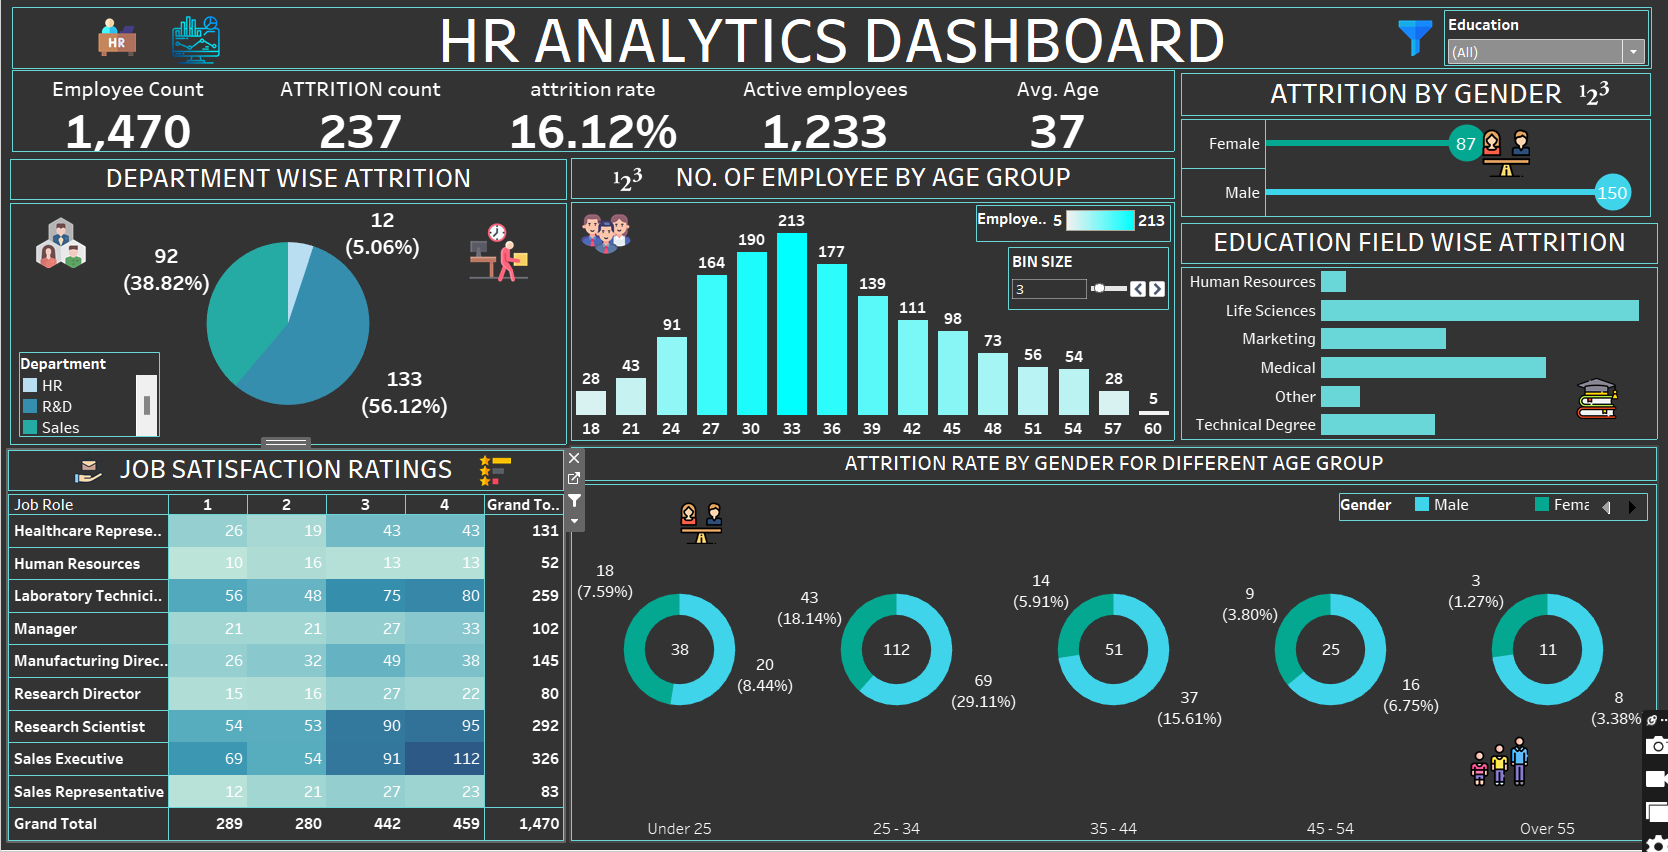

This screenshot's page, from the dashboard's own definition file:
{"tool":"tableau","page":{"name":"HR ANALYTICS DASHBOARD","canvas":[1000,1000],"units":"permille","ordinal":0},"visuals":[{"type":"title","box":[6.6,9.4,980.9,72.9]},{"type":"filter","title":"DEPARTMENT WISE ATTRITION","param":"[federated.1h7xm9t1guxv7b1a39wex0k5pwq9].[none:Education:nk]","box":[863,12.9,122.6,65.8]},{"type":"image","param":"Image/monitor.png","box":[101.7,18.8,47.2,57.6]},{"type":"image","param":"Image/hr.png","box":[58,22.3,37.7,44.6]},{"type":"image","param":"Image/filter.png","box":[834.9,24.7,26.9,42.3]},{"type":"worksheet","title":"KPI","mark":"Automatic","box":[6.6,83.4,695.6,96.4]},{"type":"worksheet","title":"attrition by gender","mark":"Automatic","rows":["Gender"],"cols":["Calculation_1486750868003876864","Calculation_1486750868003876864"],"box":[705.7,87,281.1,169.2]},{"type":"image","param":"Image/5M3bAt-LogoMakr.png","box":[943.2,94,27.5,31.7]},{"type":"image","param":"Image/equality.png","box":[885.8,152.8,31.7,56.4]},{"type":"worksheet","title":"NO. OF EMPLOYEE BY AGE GROUP","mark":"Automatic","rows":["Employee Count"],"cols":["Age (bin)"],"box":[340.9,186.8,361.2,332.6]},{"type":"worksheet","title":"DEPARTMENT WISE ATTRITION","mark":"Pie","box":[5.4,188,333.1,336.1]},{"type":"image","param":"Image/5M3bAt-LogoMakr.png","box":[365.4,196.2,28.1,30.6]},{"type":"legend","title":"NO. OF EMPLOYEE BY AGE GROUP","param":"[federated.1h7xm9t1guxv7b1a39wex0k5pwq9].[sum:Employee Count:qk]","box":[583.1,242.1,116.6,43.5]},{"type":"image","param":"Image/division.png","box":[346.3,245.6,44.9,59.9]},{"type":"image","param":"Image/department.png","box":[20.3,256.2,35.9,59.9]},{"type":"image","param":"Image/jobless.png","box":[279.9,263.2,43.7,69.3]},{"type":"worksheet","title":"EDUCATION FIELD WISE ATTRITION","mark":"Automatic","rows":["Education Field"],"cols":["Calculation_1486750868003876864"],"box":[705.7,263.2,285.3,255]},{"type":"parameter","param":"[Parameters].[Parameter 1]","box":[602.3,291.4,96.3,74]},{"type":"legend","title":"DEPARTMENT WISE ATTRITION","param":"[federated.1h7xm9t1guxv7b1a39wex0k5pwq9].[none:Department:nk]","box":[10.8,414.8,84.3,99.9]},{"type":"image","param":"Image/education.png","box":[942,444.2,30.5,49.4]},{"type":"worksheet","title":"ATTRITION RATE BY GENDER FOR DIFFERENT AGE GROUP","mark":"Pie","rows":["Calculation_1486750868105035780","Calculation_1486750868105035780"],"cols":["CF_age band"],"box":[340.9,526.4,649.5,463]},{"type":"worksheet","title":"JOB SATISFACTION RATINGS","mark":"Square","rows":["Job Role"],"cols":["Job Satisfaction"],"box":[4.2,530,332.5,459.5]},{"type":"image","param":"Image/job-offer.png","box":[41.9,530,32.3,41.1]},{"type":"image","param":"Image/rating.png","box":[285.9,534.7,39.5,37.6]},{"type":"legend","title":"ATTRITION RATE BY GENDER FOR DIFFERENT AGE GROUP","param":"[federated.1h7xm9t1guxv7b1a39wex0k5pwq9].[none:Gender:nk]","box":[800.2,580.5,184.8,32.9]},{"type":"image","param":"Image/equality.png","box":[406.1,591.1,30.5,49.4]},{"type":"image","param":"Image/age-group.png","box":[878.6,861.3,56.8,68.2]}]}

Visuals, with their boxes on the dashboard's canvas, which has no fixed pixel size, in thousandths of its width and height (x1, y1, x2, y2). These are canvas units, not pixel positions in the 1668x852 screenshot, which may show the page scaled, cropped or inside an application window:
title: l=7, t=9, r=988, b=82
"DEPARTMENT WISE ATTRITION" filter: l=863, t=13, r=986, b=79
image: l=102, t=19, r=149, b=76
image: l=58, t=22, r=96, b=67
image: l=835, t=25, r=862, b=67
"KPI" worksheet: l=7, t=83, r=702, b=180
"attrition by gender" worksheet: l=706, t=87, r=987, b=256
image: l=943, t=94, r=971, b=126
image: l=886, t=153, r=918, b=209
"NO. OF EMPLOYEE BY AGE GROUP" worksheet: l=341, t=187, r=702, b=519
"DEPARTMENT WISE ATTRITION" worksheet (Pie marks): l=5, t=188, r=338, b=524
image: l=365, t=196, r=394, b=227
"NO. OF EMPLOYEE BY AGE GROUP" legend: l=583, t=242, r=700, b=286
image: l=346, t=246, r=391, b=306
image: l=20, t=256, r=56, b=316
image: l=280, t=263, r=324, b=332
"EDUCATION FIELD WISE ATTRITION" worksheet: l=706, t=263, r=991, b=518
parameter: l=602, t=291, r=699, b=365
"DEPARTMENT WISE ATTRITION" legend: l=11, t=415, r=95, b=515
image: l=942, t=444, r=972, b=494
"ATTRITION RATE BY GENDER FOR DIFFERENT AGE GROUP" worksheet (Pie marks): l=341, t=526, r=990, b=989
"JOB SATISFACTION RATINGS" worksheet (Square marks): l=4, t=530, r=337, b=990
image: l=42, t=530, r=74, b=571
image: l=286, t=535, r=325, b=572
"ATTRITION RATE BY GENDER FOR DIFFERENT AGE GROUP" legend: l=800, t=580, r=985, b=613
image: l=406, t=591, r=437, b=640
image: l=879, t=861, r=935, b=930
